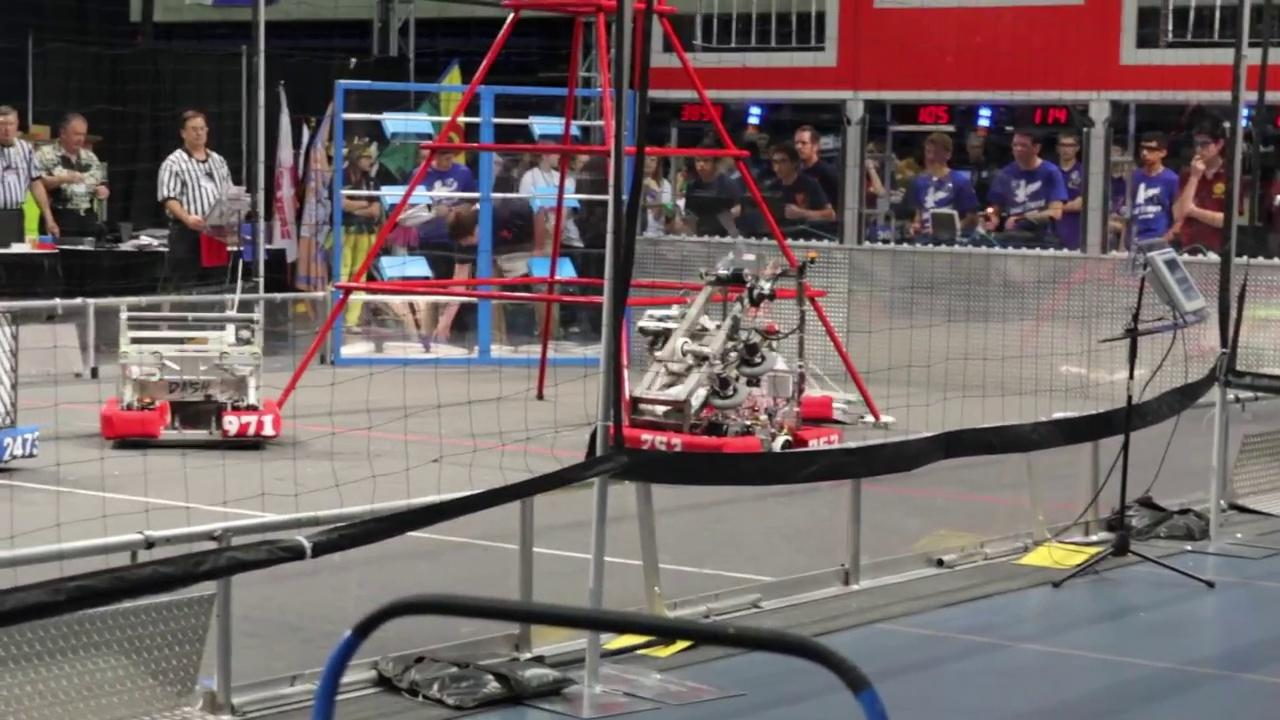robot: (617, 250, 854, 451), (91, 305, 289, 450)
